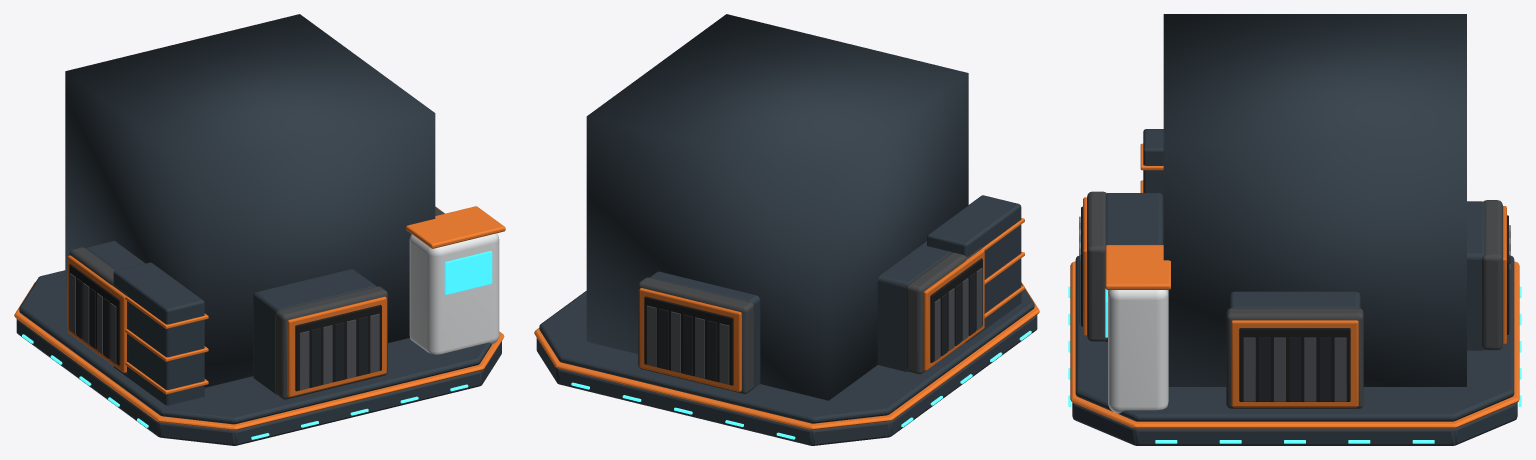
File: assembler.glb
3 views of the same model, side by side, from view 1: azimuth 30°, elevation 25°; view 2: azimuth 150°, elevation 25°; view 3: azimuth 270°, elevation 25° (orthographic). The views are drawn at different scales.
Visible parts, largest first — view 1: COL_body, deck, rack, cabinet, plinth, port block 3, plinth lip, port 3 frame, cabinet top, port 3 enamel, port 3 throat, screen (+11 smaller); view 2: COL_body, deck, plinth, rack, plinth lip, port block 0, port 2 frame, port 0 frame, port 2 enamel, port 2 throat, port 0 throat, port block 2 (+8 smaller); view 3: COL_body, deck, plinth, cabinet, plinth lip, port 1 throat, port 1 enamel, port 1 frame, port block 3, port 2 frame, cabinet top, port 3 frame (+12 smaller).
Part boxes in pixels (x1,y1,x2,y2): COL_body: (65,14,435,387); deck: (19,270,491,424); rack: (113,262,204,405); cabinet: (409,233,499,354); plinth: (16,319,501,445); port block 3: (253,269,376,394); plinth lip: (14,282,504,430); port 3 frame: (275,286,387,399); cabinet top: (406,206,505,248); port 3 enamel: (287,296,386,397); port 3 throat: (295,304,381,391); screen: (444,251,492,294); COL_body: (586,14,968,400); deck: (539,283,1034,423); plinth: (536,315,1037,445); rack: (927,195,1021,342); plinth lip: (534,282,1039,430); port block 0: (877,241,951,371); port 2 frame: (638,277,754,394); port 0 frame: (906,247,982,374); port 2 enamel: (639,288,741,391); port 2 throat: (644,296,733,385); port 0 throat: (930,258,982,362); port block 2: (650,271,760,388); COL_body: (1163,14,1466,386); deck: (1075,255,1514,421); plinth: (1072,402,1517,445); cabinet: (1108,290,1168,413); plinth lip: (1070,261,1519,428); port 1 throat: (1239,328,1350,401); port 1 enamel: (1231,320,1358,407); port 1 frame: (1226,308,1363,408); port block 3: (1105,193,1163,341); port 2 frame: (1482,200,1502,350); cabinet top: (1105,245,1170,289); port 3 frame: (1087,191,1107,341).
Size of the model in its own units: 4.48 by 3 by 4.48.
